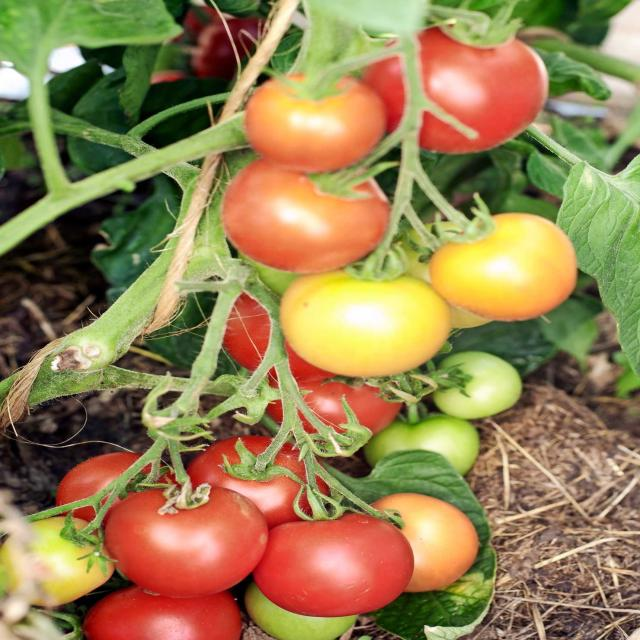level 2: (233, 558, 357, 636), (0, 516, 106, 606), (370, 414, 480, 482), (426, 353, 524, 417)
level 4: (278, 262, 454, 378), (437, 212, 580, 318)
level 5: (219, 154, 390, 274), (342, 494, 480, 590), (249, 73, 383, 158)
level 6: (360, 26, 554, 151), (100, 481, 269, 596), (215, 266, 358, 392), (250, 516, 418, 614), (197, 431, 337, 535), (50, 452, 185, 539), (84, 582, 260, 640)
